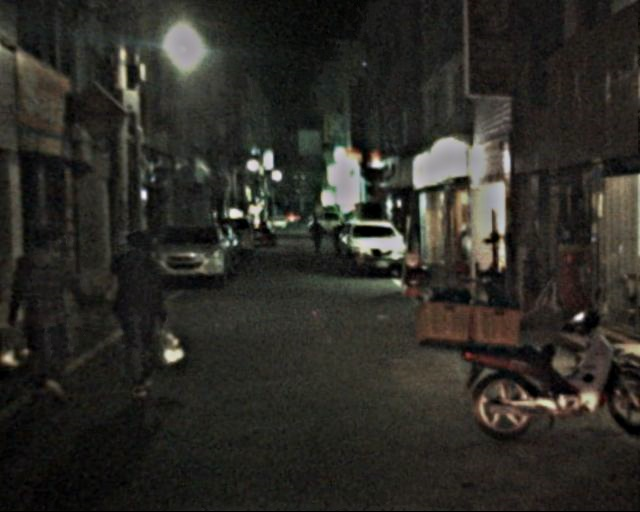person: (7, 221, 88, 397), (106, 229, 173, 398), (307, 214, 324, 254)
